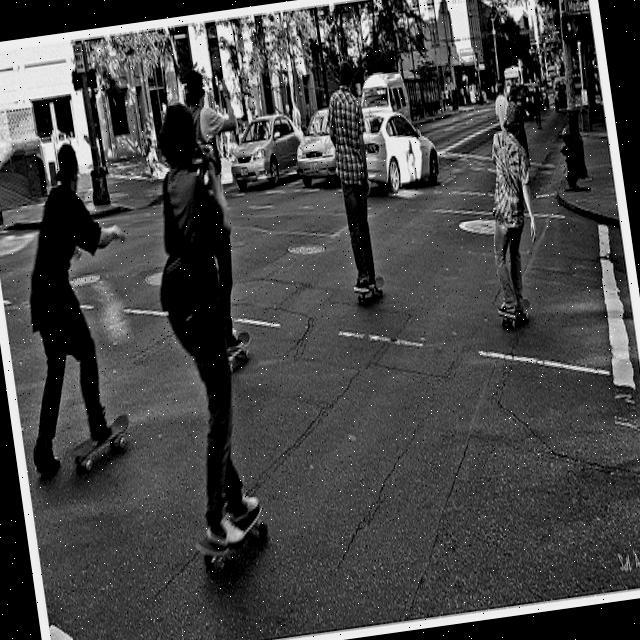fire_hydrant: (556, 122, 585, 188)
